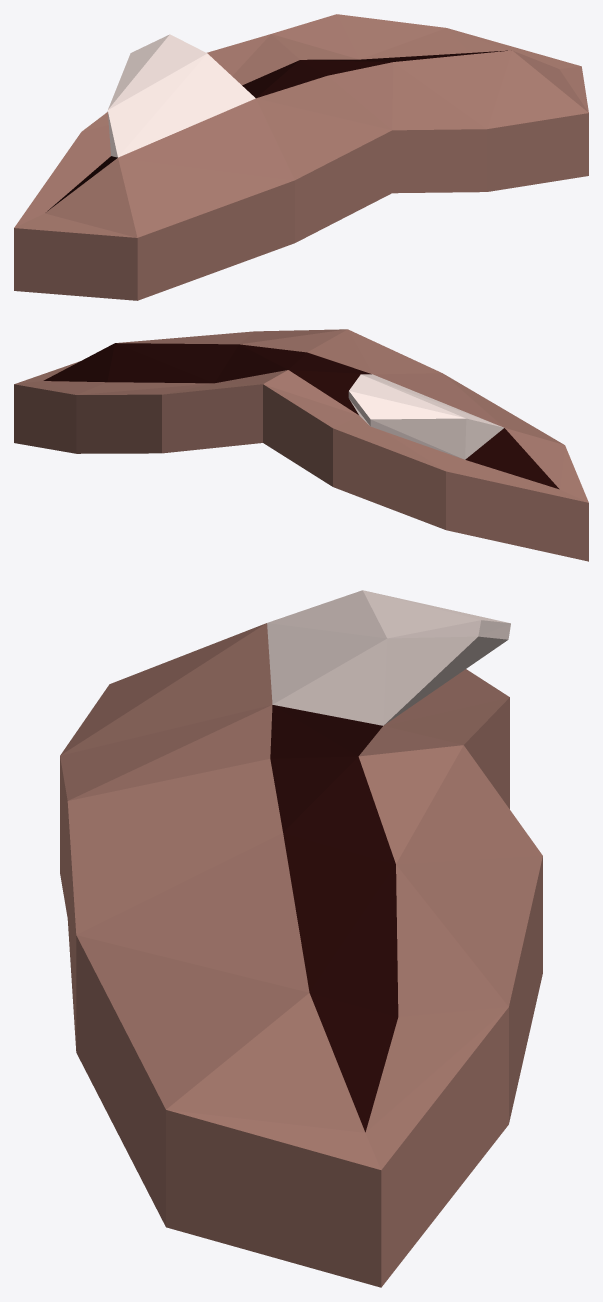
File: Mouth 09.FBX
3 views of the same model, one above another, from view 1: azimuth 30°, elevation 25°; view 2: azimuth 150°, elevation 25°; view 3: azimuth 270°, elevation 25° (orthographic). The views are drawn at different scales.
Parts seen in each view (by area): view 1: Mouth 09; view 2: Mouth 09; view 3: Mouth 09.
Part boxes in pixels (x1=…): Mouth 09: x1=14, y1=14, x2=588, y2=300; Mouth 09: x1=14, y1=329, x2=588, y2=561; Mouth 09: x1=60, y1=590, x2=542, y2=1287.
Size of the model in its own units: 8.09 by 3.06 by 2.21.
Materials: 1 (1 with a texture image).
